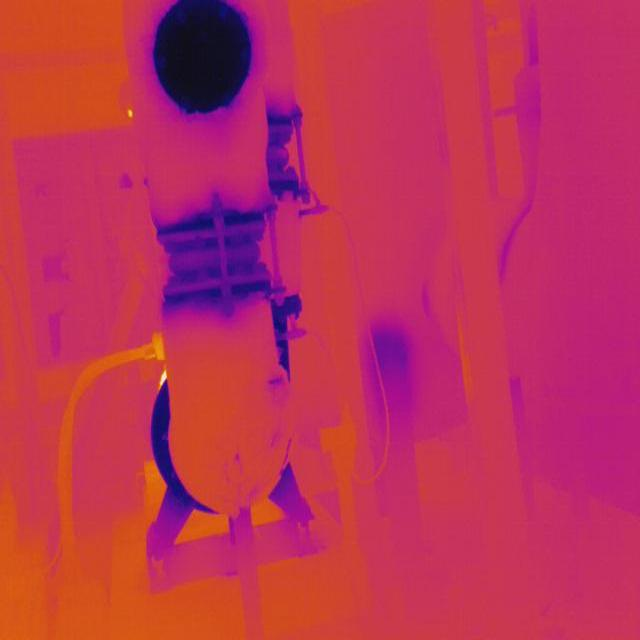leakage: (261, 360, 289, 394)
